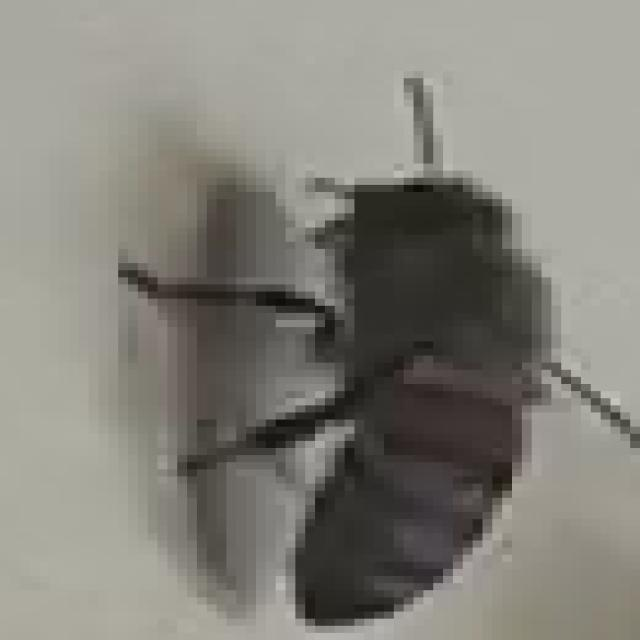honeybee: (111, 86, 588, 610)
